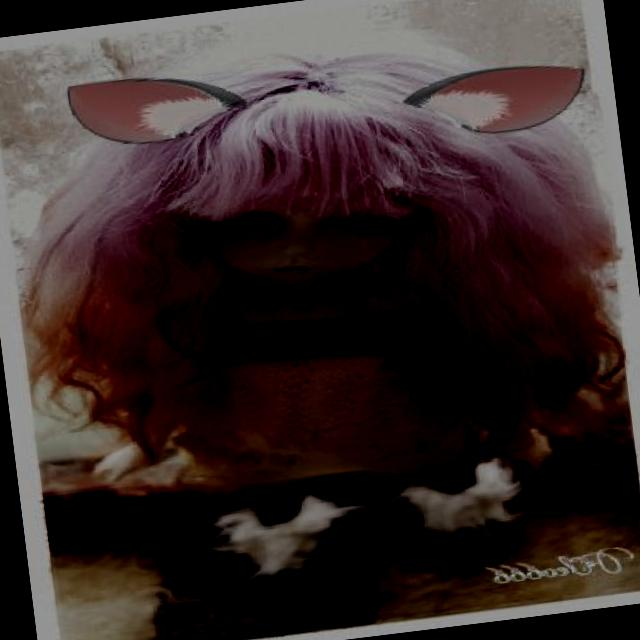Person: (13, 53, 628, 640)
